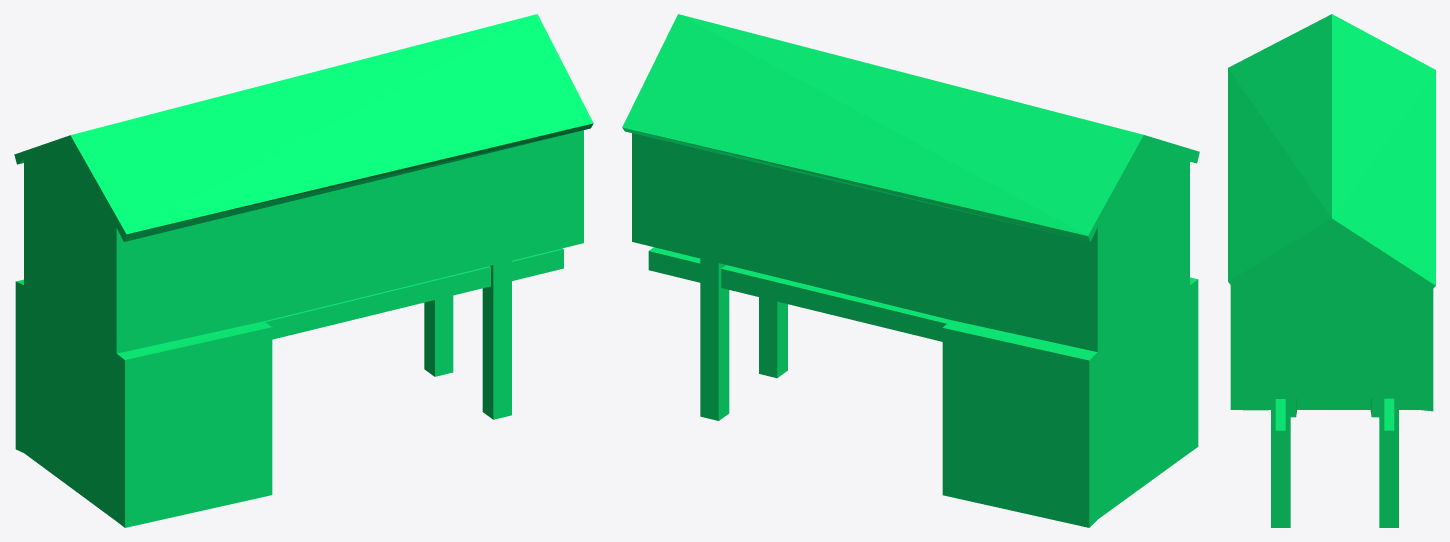
File: Garnison3_Collision.FBX
3 views of the same model, side by side, from view 1: azimuth 30°, elevation 25°; view 2: azimuth 150°, elevation 25°; view 3: azimuth 270°, elevation 25° (orthographic). The views are drawn at different scales.
Parts seen in each view (by area): view 1: Garnison3_Collision; view 2: Garnison3_Collision; view 3: Garnison3_Collision.
Part boxes in pixels (x1,y1,x2,y2): Garnison3_Collision: (14, 14, 593, 527); Garnison3_Collision: (622, 14, 1199, 527); Garnison3_Collision: (1228, 14, 1435, 527).
Size of the model in its own units: 17.96 by 13.39 by 7.47.
